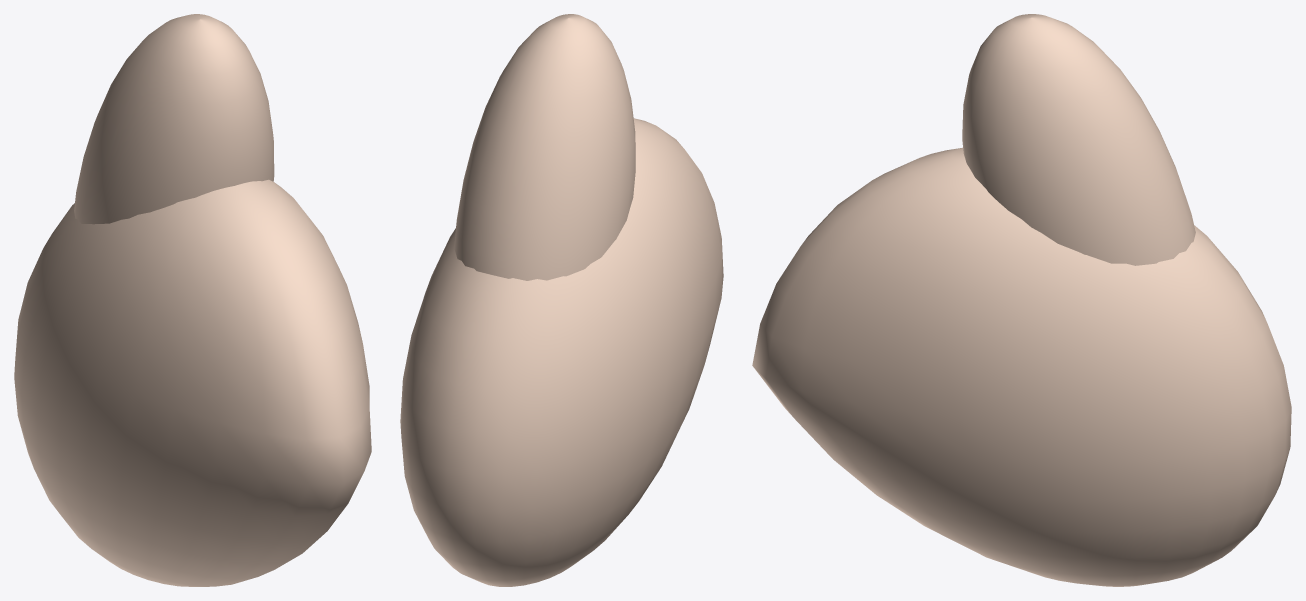
The model's file is male_nose_ref04_v5.glb.
The picture shows the model from 3 angles, left to right: view 1: azimuth 30°, elevation 25°; view 2: azimuth 150°, elevation 25°; view 3: azimuth 270°, elevation 25°; orthographic projection. The views are drawn at different scales.
Visible parts, largest first — view 1: Nose_Tip, Nose_Bridge; view 2: Nose_Tip, Nose_Bridge; view 3: Nose_Tip, Nose_Bridge.
Part boxes in pixels (x1,y1,x2,y2): Nose_Tip: (14,179,371,586); Nose_Bridge: (74,14,274,224); Nose_Tip: (400,118,723,586); Nose_Bridge: (454,14,635,280); Nose_Tip: (752,147,1291,586); Nose_Bridge: (962,14,1195,265).
Size of the model in its own units: 0.028 by 0.063 by 0.0548.
